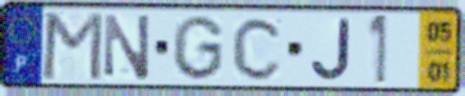1: (366, 12, 391, 89)
C: (230, 14, 286, 83)
G: (169, 13, 226, 82)
J: (308, 16, 354, 83)
M: (38, 10, 106, 83)
N: (101, 12, 153, 83)
